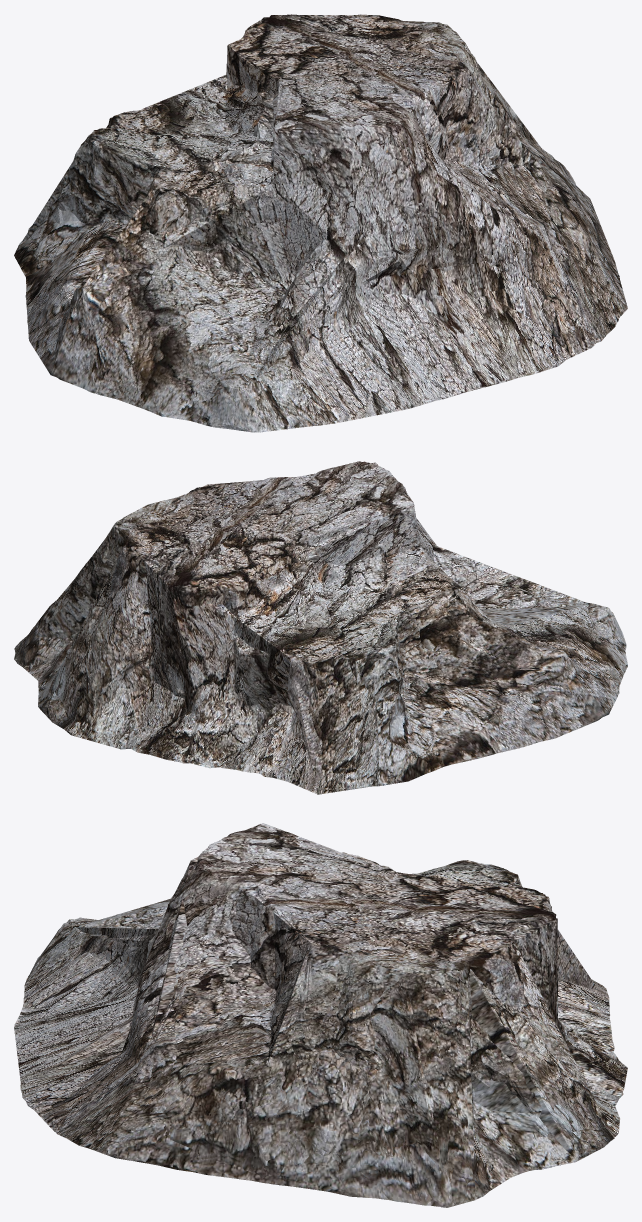
File: Stump4.obj
3 views of the same model, one above another, from view 1: azimuth 30°, elevation 25°; view 2: azimuth 150°, elevation 25°; view 3: azimuth 270°, elevation 25° (orthographic). The views are drawn at different scales.
Visible parts, largest first — view 1: default; view 2: default; view 3: default.
Part boxes in pixels (left/top/right/bottom): default: left=14, top=14, right=627, bottom=432; default: left=14, top=461, right=627, bottom=794; default: left=14, top=823, right=627, bottom=1207.
Bounding box in the file's own units: 266 × 88.47 × 231.
Materials: 1 (1 with a texture image).
